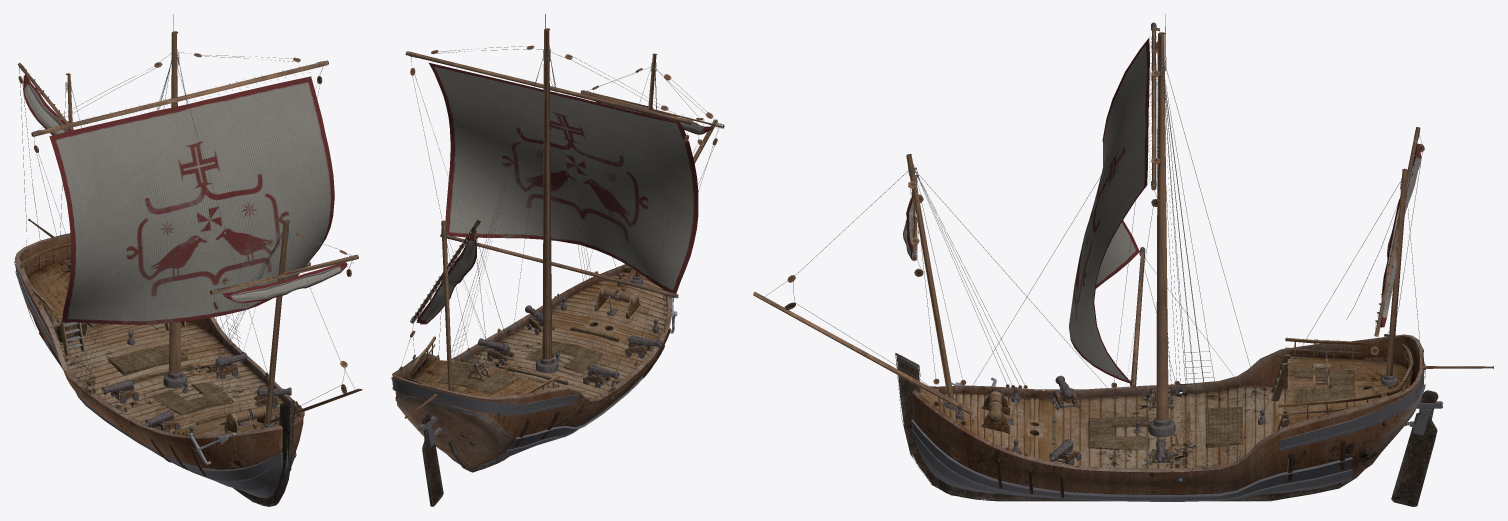
The model's file is ship_caravel.glb.
3 views of the same model, side by side, from view 1: azimuth 30°, elevation 25°; view 2: azimuth 150°, elevation 25°; view 3: azimuth 270°, elevation 25° (orthographic). The views are drawn at different scales.
Parts seen in each view (by area): view 1: 0, Hull_lo_Hull_0, PoopDeck_lo_Poopdeck_0, Sail002_MastsRigging_0, MidBoom_MastsRigging_0, UpperDeck_lo_Poopdeck_0, Keel_Hull_0, UpperHatch001_lo_Poopdeck_0, Foremast_MastsRigging_0, Hatch_Poopdeck_0, MidMast_MastsRigging_0, Sail001_MastsRigging_0 (+13 smaller); view 2: 0, Hull_lo_Hull_0, PoopDeck_lo_Poopdeck_0, MidMast_MastsRigging_0, HullBackDetailPlate_Hull_0, UpperDeck_lo_Poopdeck_0, ClimbingRigging_MastsRigging_0, Sail001_MastsRigging_0, MidBoom_MastsRigging_0, Rudder_Hull_0, UpperHatch_lo_Poopdeck_0, UpperHatch001_lo_Poopdeck_0 (+10 smaller); view 3: Hull_lo_Hull_0, PoopDeck_lo_Poopdeck_0, 0, MidMast_MastsRigging_0, UpperDeck_lo_Poopdeck_0, Keel_Hull_0, Rudder_Hull_0, ClimbingRigging_MastsRigging_0, HullBackDetailPlate_Hull_0, Fence001_DeckStuff_0, UpperHatch001_lo_Poopdeck_0, Foremast_MastsRigging_0 (+5 smaller).
Boxes of the visible parts, x1=… form: 0: x1=49, y1=76, x2=334, y2=324; Hull_lo_Hull_0: x1=14, y1=233, x2=304, y2=498; PoopDeck_lo_Poopdeck_0: x1=56, y1=322, x2=298, y2=435; Sail002_MastsRigging_0: x1=222, y1=262, x2=347, y2=303; MidBoom_MastsRigging_0: x1=31, y1=60, x2=328, y2=136; UpperDeck_lo_Poopdeck_0: x1=28, y1=259, x2=70, y2=327; Keel_Hull_0: x1=233, y1=400, x2=294, y2=506; UpperHatch001_lo_Poopdeck_0: x1=151, y1=382, x2=233, y2=414; Foremast_MastsRigging_0: x1=264, y1=220, x2=289, y2=427; Hatch_Poopdeck_0: x1=108, y1=344, x2=187, y2=375; MidMast_MastsRigging_0: x1=169, y1=31, x2=180, y2=379; Sail001_MastsRigging_0: x1=23, y1=74, x2=70, y2=135; 0: x1=429, y1=63, x2=698, y2=293; Hull_lo_Hull_0: x1=392, y1=264, x2=672, y2=467; PoopDeck_lo_Poopdeck_0: x1=464, y1=265, x2=667, y2=399; MidMast_MastsRigging_0: x1=542, y1=28, x2=552, y2=369; HullBackDetailPlate_Hull_0: x1=391, y1=377, x2=578, y2=415; UpperDeck_lo_Poopdeck_0: x1=412, y1=359, x2=544, y2=397; ClimbingRigging_MastsRigging_0: x1=451, y1=55, x2=613, y2=397; Sail001_MastsRigging_0: x1=416, y1=229, x2=476, y2=324; MidBoom_MastsRigging_0: x1=405, y1=51, x2=693, y2=124; Rudder_Hull_0: x1=419, y1=411, x2=443, y2=506; UpperHatch_lo_Poopdeck_0: x1=439, y1=363, x2=518, y2=394; UpperHatch001_lo_Poopdeck_0: x1=524, y1=341, x2=603, y2=372; Hull_lo_Hull_0: x1=911, y1=334, x2=1424, y2=501; PoopDeck_lo_Poopdeck_0: x1=919, y1=387, x2=1287, y2=468; 0: x1=1069, y1=38, x2=1149, y2=383; MidMast_MastsRigging_0: x1=1156, y1=32, x2=1168, y2=432; UpperDeck_lo_Poopdeck_0: x1=1287, y1=354, x2=1410, y2=425; Keel_Hull_0: x1=895, y1=353, x2=1363, y2=501; Rudder_Hull_0: x1=1391, y1=390, x2=1442, y2=506; ClimbingRigging_MastsRigging_0: x1=1162, y1=65, x2=1214, y2=470; HullBackDetailPlate_Hull_0: x1=1280, y1=342, x2=1424, y2=451; Fence001_DeckStuff_0: x1=1278, y1=337, x2=1413, y2=421; UpperHatch001_lo_Poopdeck_0: x1=1089, y1=416, x2=1148, y2=449; Foremast_MastsRigging_0: x1=906, y1=154, x2=954, y2=404.
Bounding box in the file's own units: 138 × 193 × 265.
5 materials, 5 textured.
